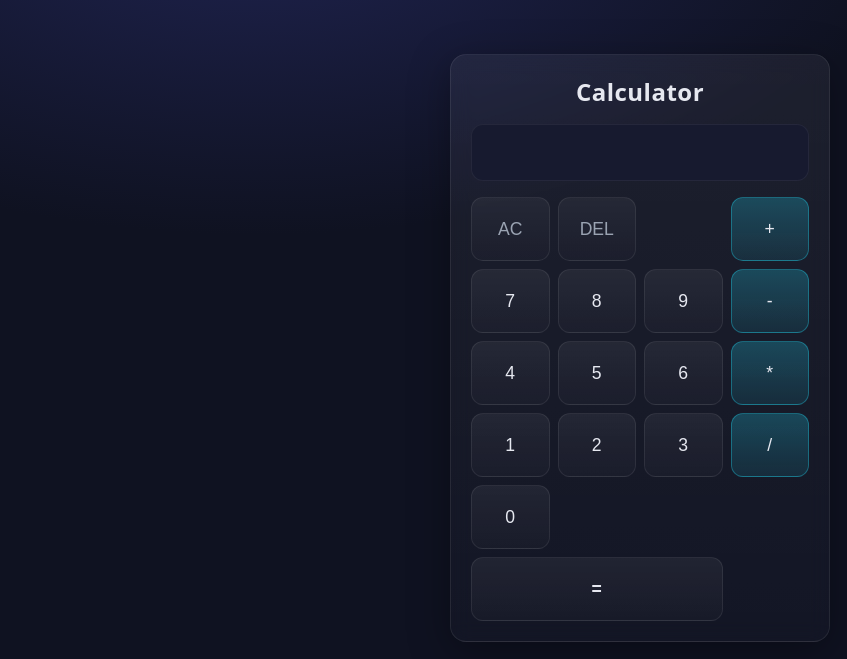
Test: calculator › should user input after clicking a number
Click the button named "digit 1": [510, 445] box [471,413,550,477]
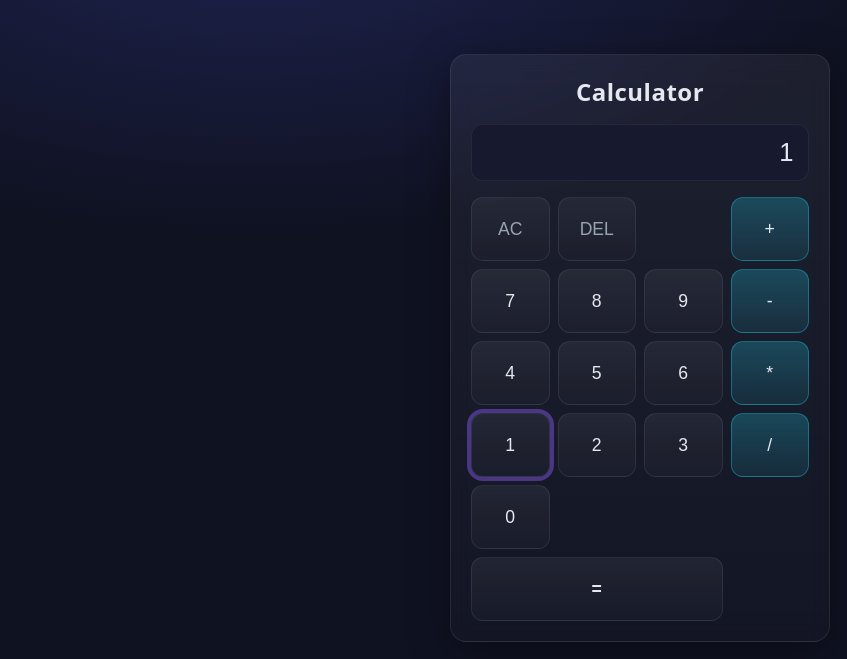
Now the field holds "1", box [484,137,796,168]
